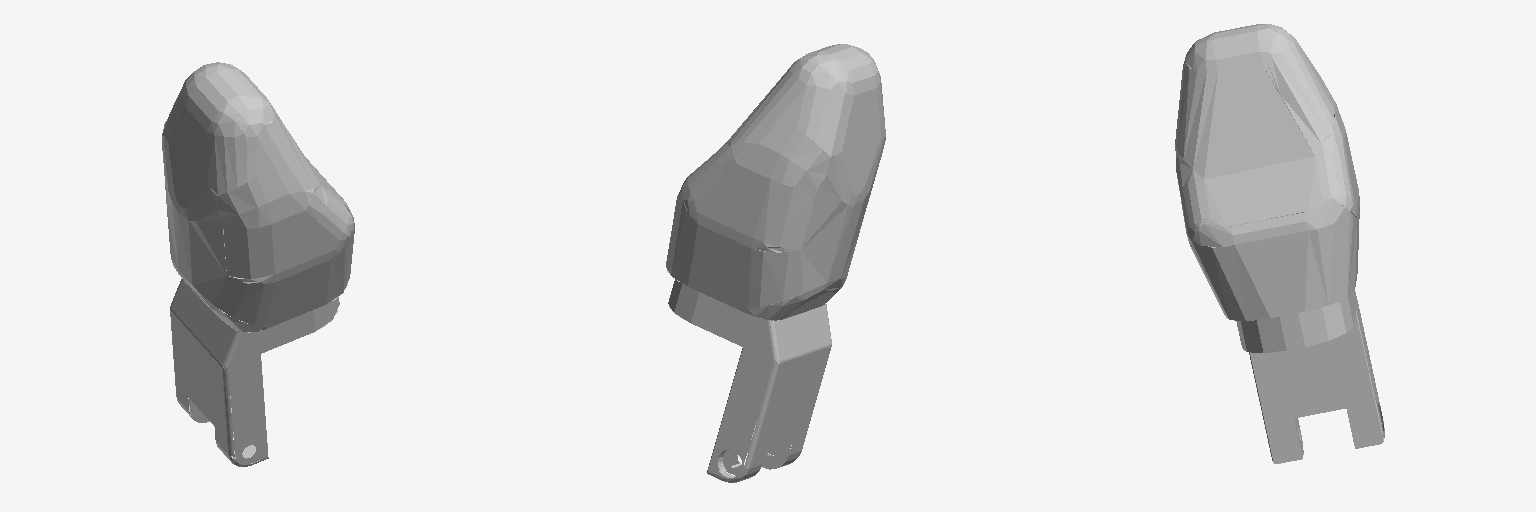
The model's file is handl_finger_thumb3_joint.obj.
The picture shows the model from 3 angles: view 1: azimuth 30°, elevation 25°; view 2: azimuth 150°, elevation 25°; view 3: azimuth 270°, elevation 25°; orthographic projection.
Bounding box in the file's own units: 0.0201 × 0.0478 × 0.022.